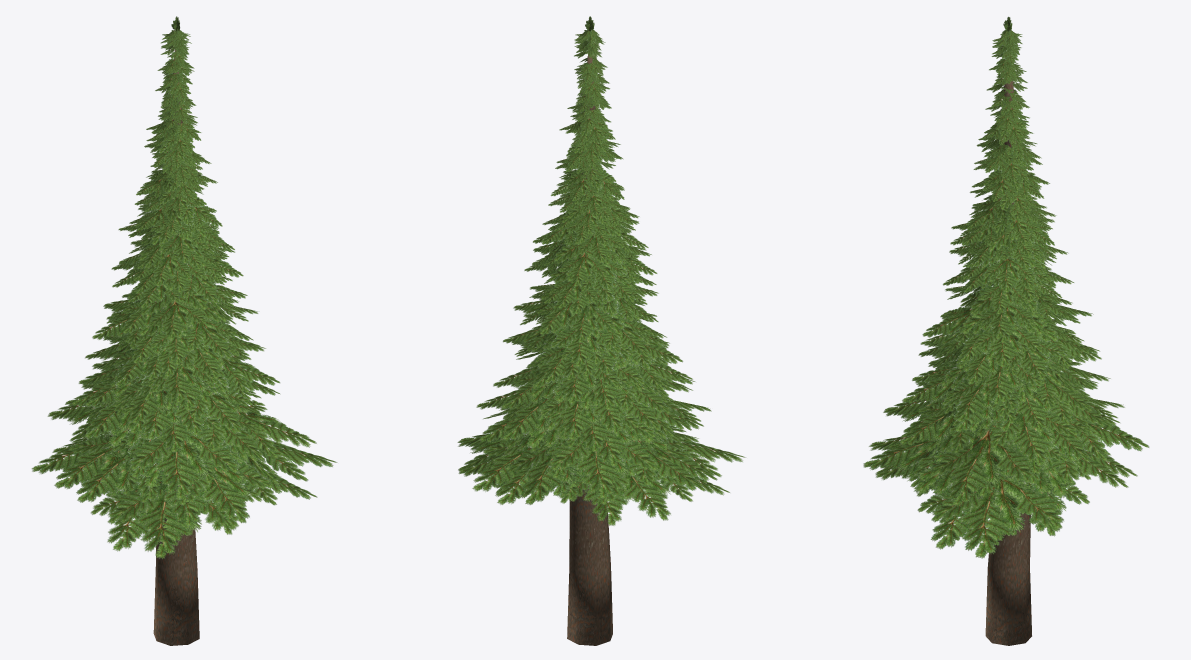
File: tree_test.glb
3 views of the same model, side by side, from view 1: azimuth 30°, elevation 25°; view 2: azimuth 150°, elevation 25°; view 3: azimuth 270°, elevation 25° (orthographic).
Visible parts, largest first — view 1: tree_branch, tree_full, tree_stump; view 2: tree_branch, tree_full, tree_stump; view 3: tree_branch, tree_full, tree_stump.
Part boxes in pixels (<box>): tree_branch: <box>31,16,337,559</box>; tree_full: <box>154,49,198,619</box>; tree_stump: <box>153,609,199,645</box>; tree_branch: <box>457,16,745,525</box>; tree_full: <box>568,42,612,619</box>; tree_stump: <box>567,608,612,645</box>; tree_branch: <box>863,16,1149,558</box>; tree_full: <box>986,55,1031,619</box>; tree_stump: <box>985,611,1031,645</box>.
Size of the model in its own units: 8.71 by 16.2 by 8.57.
Materials: 4 (4 with a texture image).
